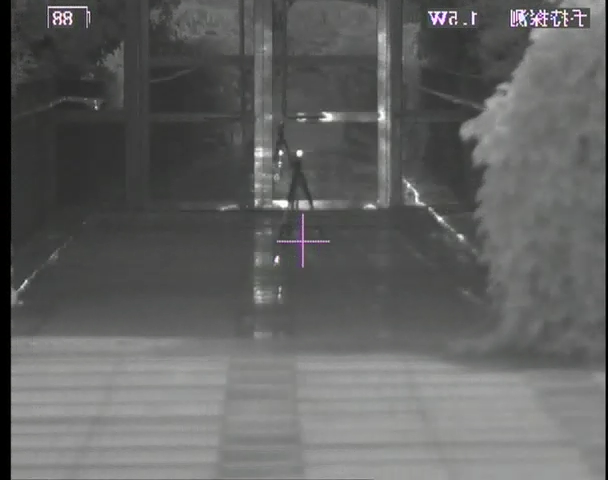my: (295, 149, 304, 158)
